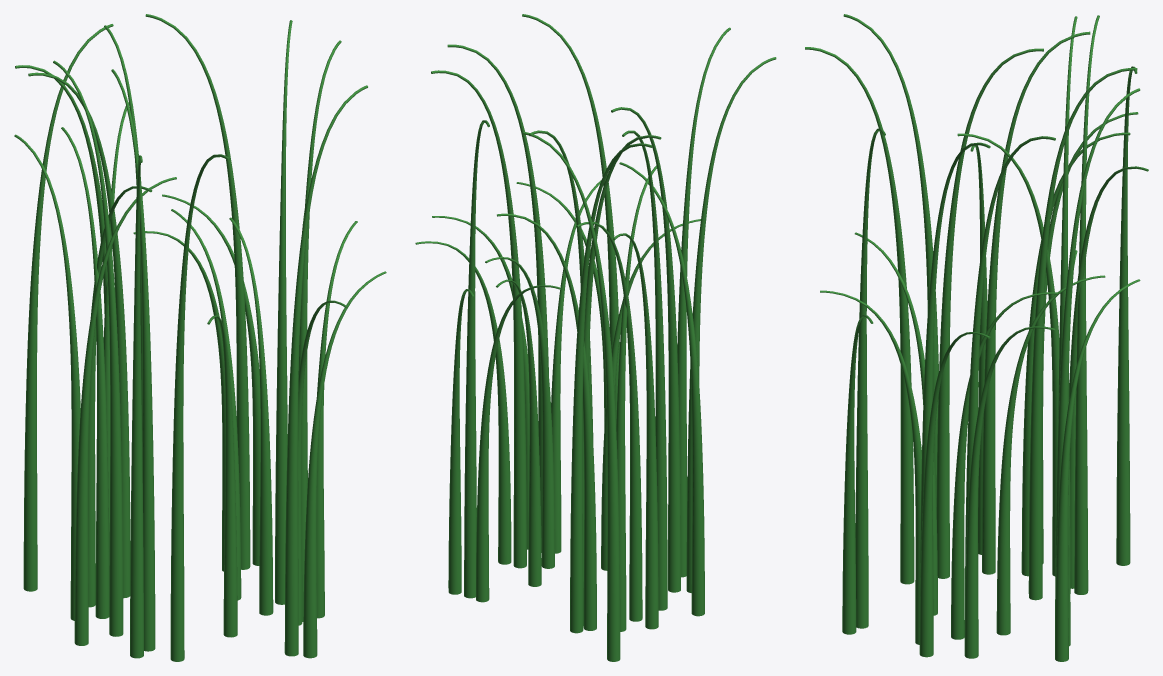
Rendered from bamboo.glb.
3 renders of one model, left to right at view 1: azimuth 30°, elevation 25°; view 2: azimuth 150°, elevation 25°; view 3: azimuth 270°, elevation 25°, orthographic. The views are drawn at different scales.
Parts seen in each view (by area): view 1: for bblneder2.001; view 2: for bblneder2.001; view 3: for bblneder2.001.
Boxes of the visible parts, bbox=[...] form: for bblneder2.001: bbox=[14, 14, 386, 661]; for bblneder2.001: bbox=[415, 14, 776, 661]; for bblneder2.001: bbox=[805, 14, 1148, 661].
Size of the model in its own units: 5.57 by 9.87 by 5.75.
